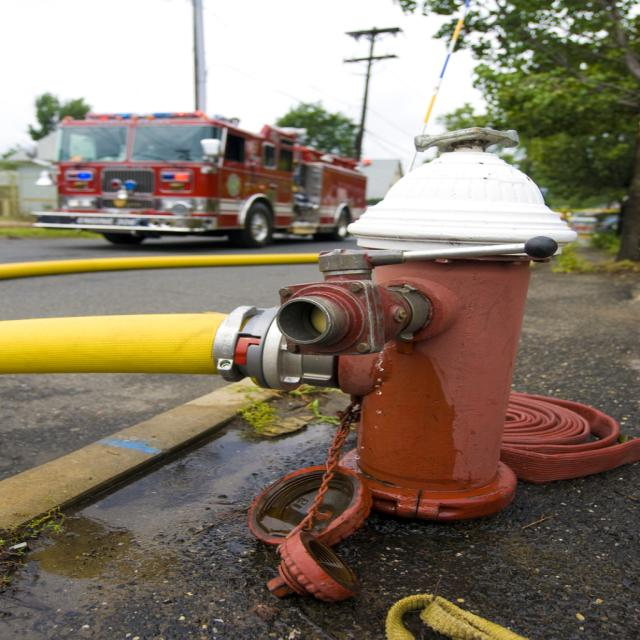fire_hydrant: (272, 126, 584, 519)
